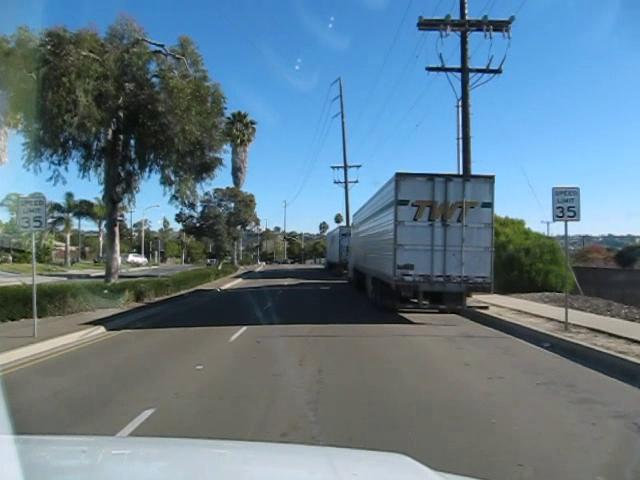speedLimit35: (551, 184, 581, 222), (16, 196, 47, 231)
